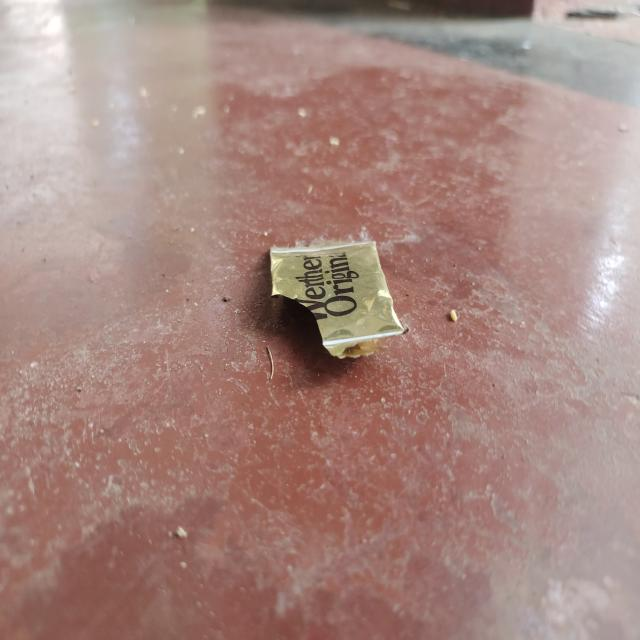plastic: (268, 236, 407, 361)
